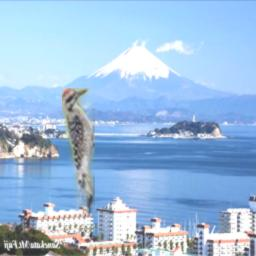Woodpecker: (62, 88, 95, 218)
